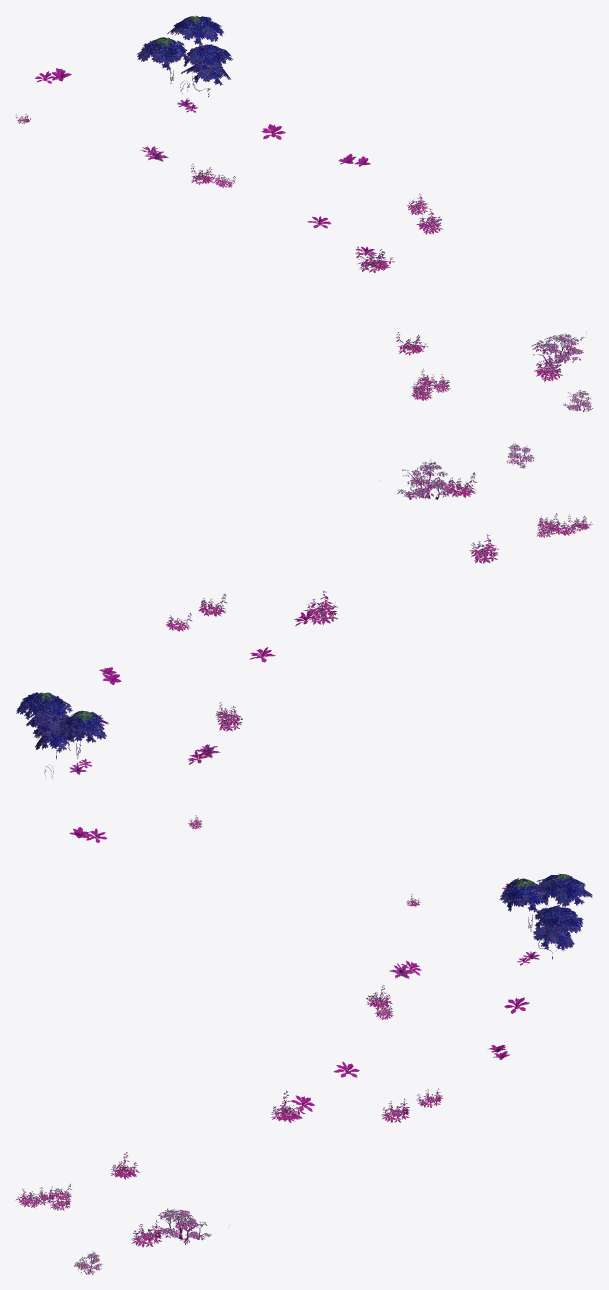
File: zhibei8_1.fbx
3 views of the same model, one above another, from view 1: azimuth 30°, elevation 25°; view 2: azimuth 150°, elevation 25°; view 3: azimuth 330°, elevation 25° (orthographic). The views are drawn at different scales.
Parts seen in each view (by area): view 1: zhibei8_1; view 2: zhibei8_1; view 3: zhibei8_1.
Part boxes in pixels (x1,y1,x2,y2): zhibei8_1: [15, 15, 593, 411]; zhibei8_1: [16, 443, 592, 842]; zhibei8_1: [15, 873, 592, 1274].
Size of the model in its own units: 2601 by 904 by 9653.
